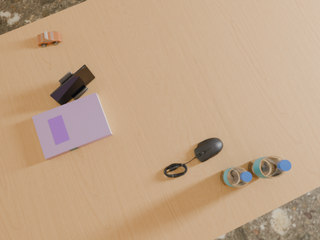book: (32, 93, 112, 160)
bottle: (248, 156, 291, 178), (220, 167, 252, 187)
mouse: (194, 138, 223, 162)
phone: (50, 65, 95, 106)
toy_car: (37, 31, 62, 47)
